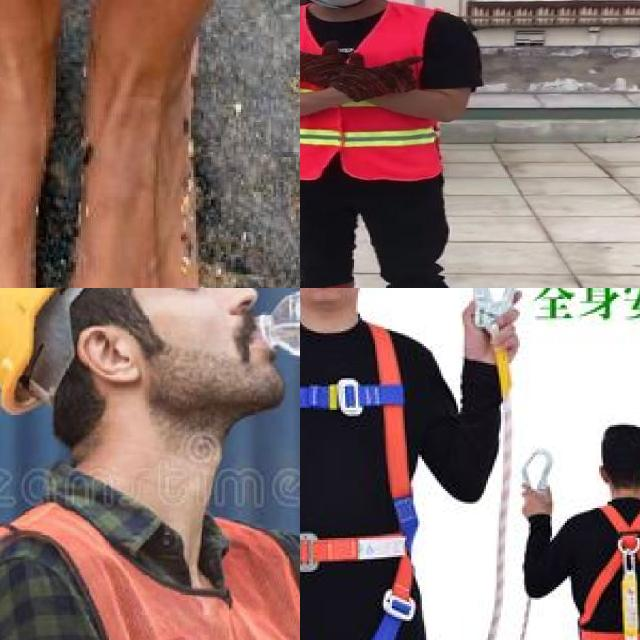Barefoots: (65, 20, 204, 288), (0, 3, 70, 288)
Harness: (300, 313, 415, 640), (564, 499, 640, 640)
No_Ear-Protection: (76, 326, 144, 384)
person: (300, 0, 485, 288)
vest: (300, 4, 443, 183)
